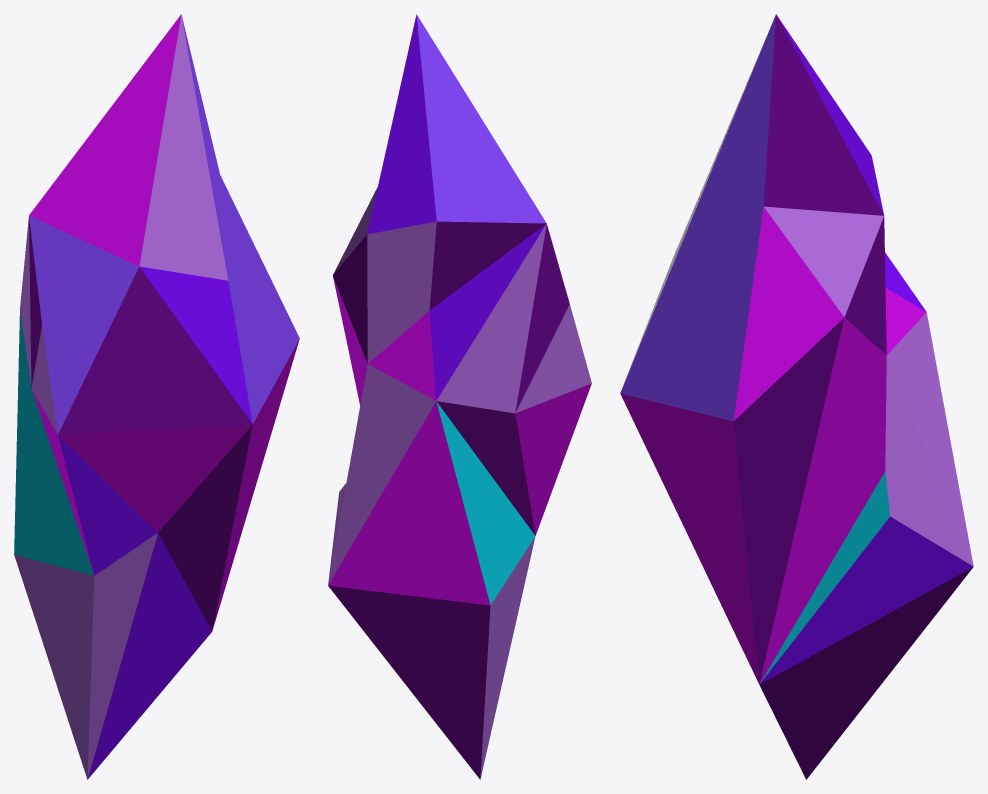
File: shard0.glb
3 views of the same model, side by side, from view 1: azimuth 30°, elevation 25°; view 2: azimuth 150°, elevation 25°; view 3: azimuth 270°, elevation 25° (orthographic). The views are drawn at different scales.
Parts seen in each view (by area): view 1: Cube; view 2: Cube; view 3: Cube.
Boxes of the visible parts, left/top/right/bottom form: Cube: left=14, top=14, right=299, bottom=779; Cube: left=328, top=14, right=591, bottom=779; Cube: left=620, top=14, right=973, bottom=779.
Bounding box in the file's own units: 2.23 × 6.44 × 2.56.
